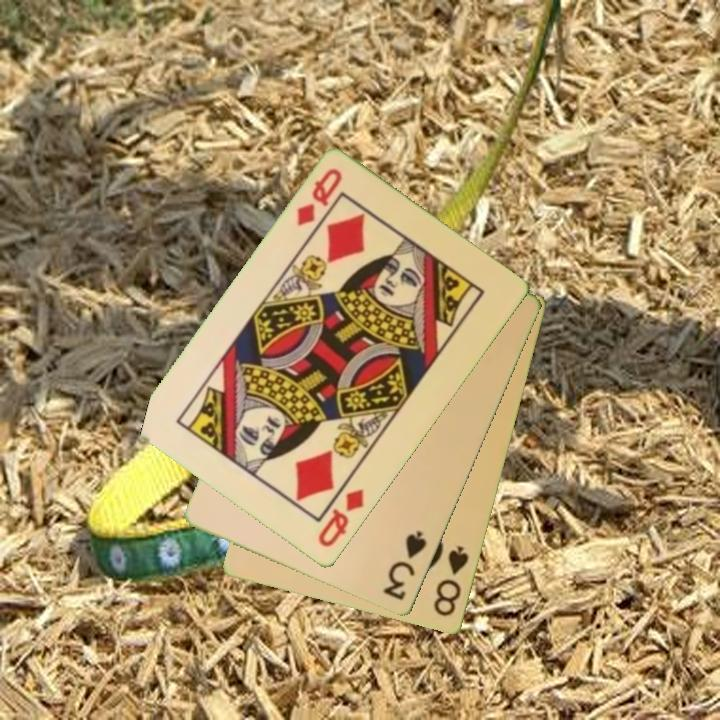3s: (380, 527, 430, 604)
8s: (430, 542, 472, 620)
Qd: (314, 485, 367, 551), (293, 165, 346, 230)
